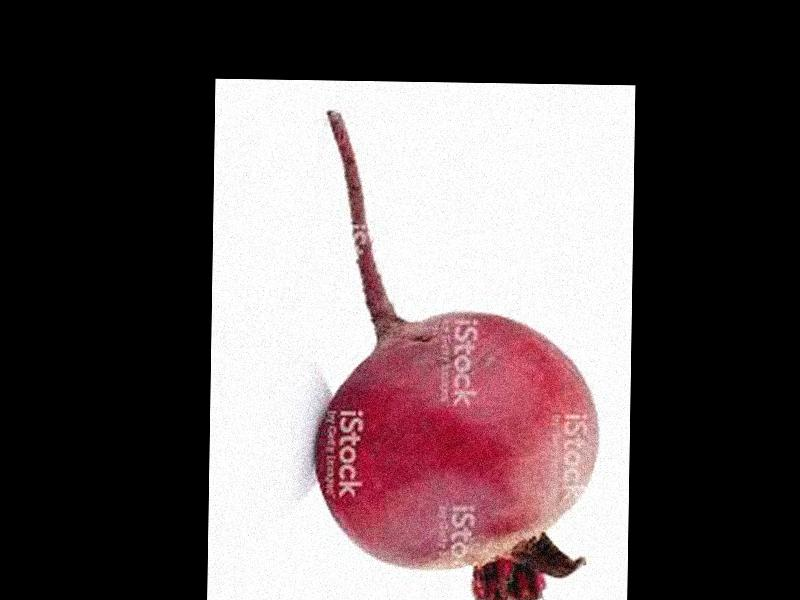Beet: (313, 112, 601, 600)
